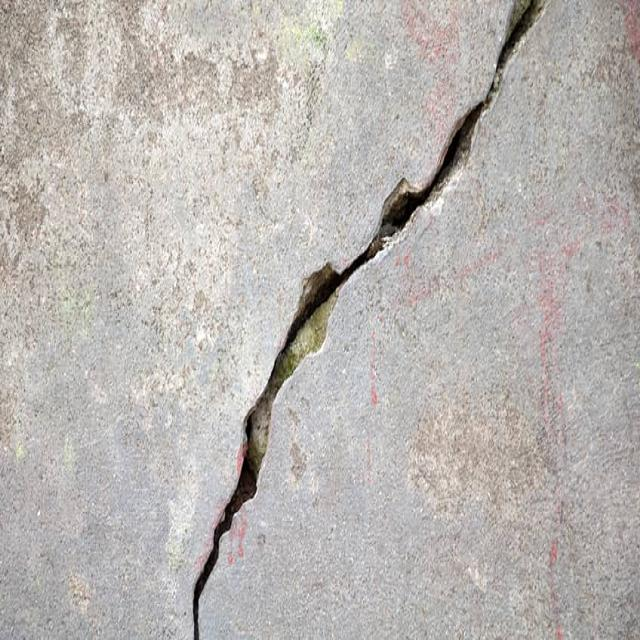Wall_Cracks: (178, 0, 566, 640)
